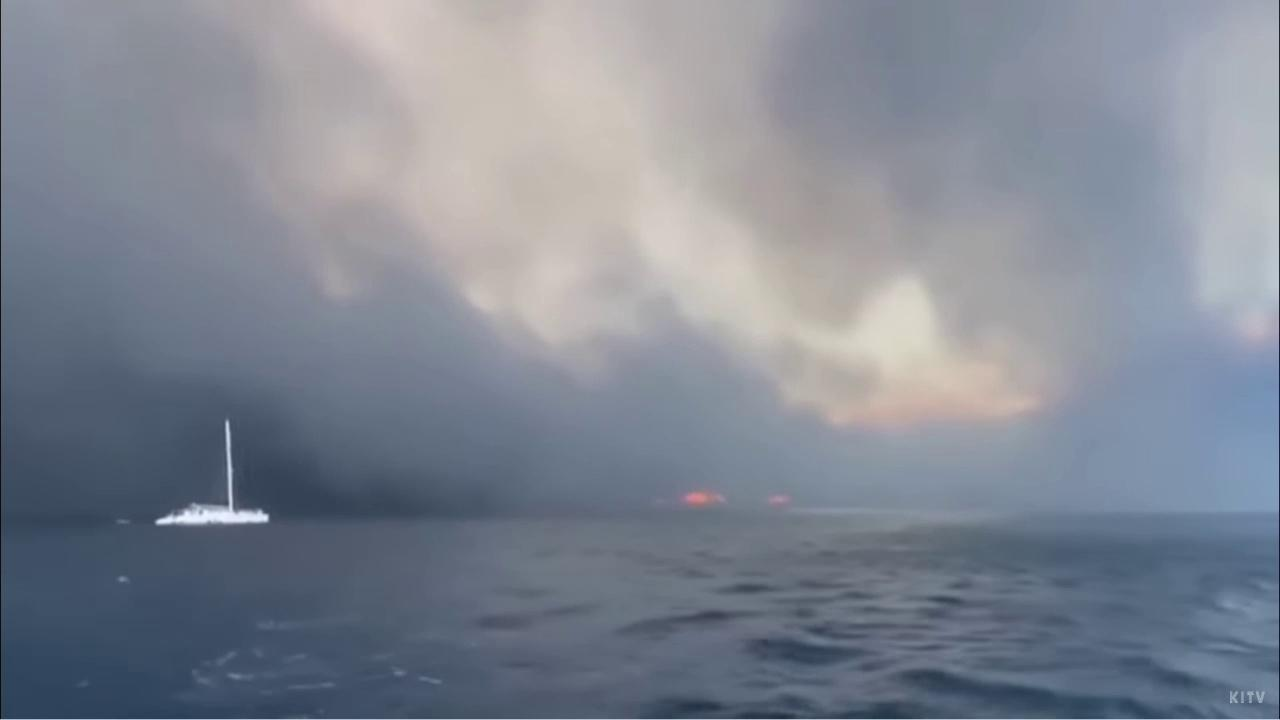fire: (678, 490, 729, 507), (767, 495, 794, 507)
smoke: (0, 0, 1280, 510)
